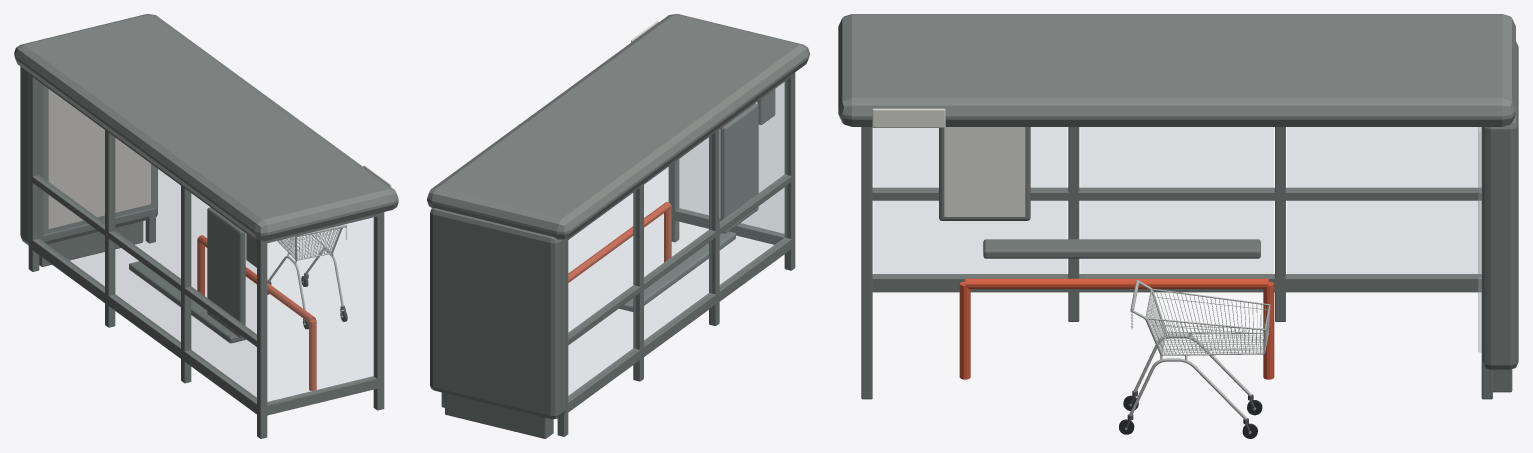
Rendered from preston-busstop-reference.glb.
The picture shows the model from 3 angles, left to right: view 1: azimuth 30°, elevation 25°; view 2: azimuth 150°, elevation 25°; view 3: azimuth 270°, elevation 25°; orthographic projection. The views are drawn at different scales.
Parts seen in each view (by area): view 1: BUSSTOP_Roof_Shell, BUSSTOP_Glass_Left, BUSSTOP_Frame, BUSSTOP_Glass_Rear01, BUSSTOP_Glass_Rear02, BUSSTOP_Glass_Rear03, BUSSTOP_Advert_DecalSurface, BUSSTOP_AdvertHousing_Outer, BUSSTOP_Timetable_Backplate, BUSSTOP_Frame_LeftFrontUpright, BUSSTOP_Frame_LeftBottomRail, BUSSTOP_AdvertHousing_Plinth (+8 smaller); view 2: BUSSTOP_Roof_Shell, BUSSTOP_AdvertHousing_Outer, BUSSTOP_Frame, BUSSTOP_Glass_Rear02, BUSSTOP_Glass_Rear03, BUSSTOP_Glass_Rear01, BUSSTOP_Glass_Left, BUSSTOP_Timetable_Backplate, BUSSTOP_AdvertHousing_Plinth, BUSSTOP_Bench_Perch, BUSSTOP_Frame_LeftBottomRail, BUSSTOP_BenchRail_Horizontal (+3 smaller); view 3: BUSSTOP_Roof_Shell, BUSSTOP_Glass_Rear03, BUSSTOP_Glass_Rear02, BUSSTOP_Frame, BUSSTOP_Glass_Rear01, BUSSTOP_AdvertHousing_Outer, BUSSTOP_Timetable_DecalSurface, BUSSTOP_Bench_Perch, TROLLEY_Basket, BUSSTOP_BenchRail_Horizontal, BUSSTOP_Frame_LeftFrontUpright, BUSSTOP_Number_DecalSurface (+6 smaller).
Boxes of the visible parts, <box> form: BUSSTOP_Roof_Shell: <box>14,14,398,240</box>; BUSSTOP_Glass_Left: <box>267,217,374,402</box>; BUSSTOP_Frame: <box>28,74,267,438</box>; BUSSTOP_Glass_Rear01: <box>189,192,256,399</box>; BUSSTOP_Glass_Rear02: <box>113,136,180,343</box>; BUSSTOP_Glass_Rear03: <box>37,81,104,288</box>; BUSSTOP_Advert_DecalSurface: <box>48,89,150,228</box>; BUSSTOP_AdvertHousing_Outer: <box>20,66,157,245</box>; BUSSTOP_Timetable_Backplate: <box>207,207,245,338</box>; BUSSTOP_Frame_LeftFrontUpright: <box>373,212,384,410</box>; BUSSTOP_Frame_LeftBottomRail: <box>263,376,381,416</box>; BUSSTOP_AdvertHousing_Plinth: <box>39,221,143,266</box>; BUSSTOP_Roof_Shell: <box>427,14,809,239</box>; BUSSTOP_AdvertHousing_Outer: <box>430,208,566,419</box>; BUSSTOP_Frame: <box>557,72,795,436</box>; BUSSTOP_Glass_Rear02: <box>644,136,711,342</box>; BUSSTOP_Glass_Rear03: <box>568,191,635,397</box>; BUSSTOP_Glass_Rear01: <box>720,80,786,286</box>; BUSSTOP_Glass_Left: <box>678,83,783,234</box>; BUSSTOP_Timetable_Backplate: <box>720,103,758,233</box>; BUSSTOP_AdvertHousing_Plinth: <box>445,393,553,438</box>; BUSSTOP_Bench_Perch: <box>619,231,735,311</box>; BUSSTOP_Frame_LeftBottomRail: <box>671,208,784,244</box>; BUSSTOP_BenchRail_Horizontal: <box>568,202,670,282</box>; BUSSTOP_Roof_Shell: <box>838,14,1515,126</box>; BUSSTOP_Glass_Rear03: <box>1287,127,1477,275</box>; BUSSTOP_Glass_Rear02: <box>1080,127,1273,275</box>; BUSSTOP_Frame: <box>872,127,1481,321</box>; BUSSTOP_Glass_Rear01: <box>874,127,1066,275</box>; BUSSTOP_AdvertHousing_Outer: <box>1482,42,1518,369</box>; BUSSTOP_Timetable_DecalSurface: <box>944,127,1025,216</box>; BUSSTOP_Bench_Perch: <box>983,239,1260,258</box>; TROLLEY_Basket: <box>1145,289,1270,354</box>; BUSSTOP_BenchRail_Horizontal: <box>965,278,1268,288</box>; BUSSTOP_Frame_LeftFrontUpright: <box>861,127,872,399</box>; BUSSTOP_Number_DecalSurface: <box>872,108,945,127</box>.
Size of the model in its own units: 2.39 by 2.55 by 5.2.
